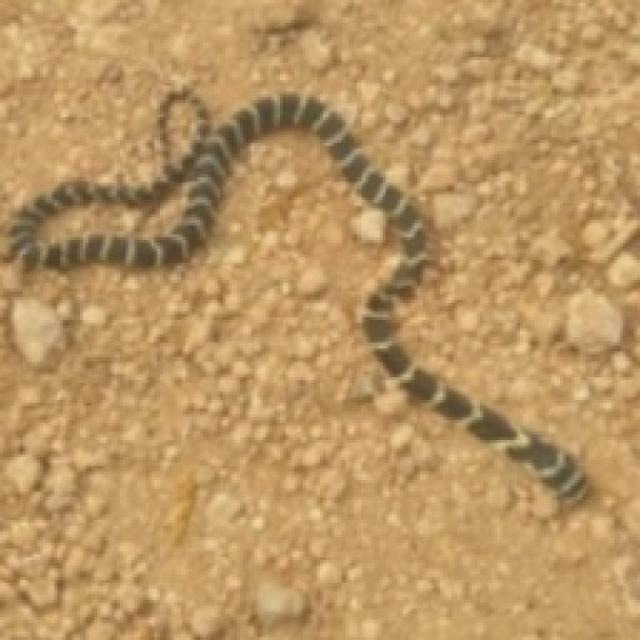king cobra: (11, 91, 586, 500), (34, 183, 186, 243)
